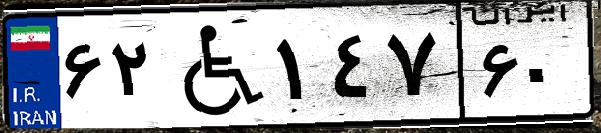0: (525, 38, 570, 115)
1: (270, 28, 330, 110)
2: (110, 28, 158, 98)
4: (330, 28, 385, 110)
6: (57, 26, 110, 100), (475, 38, 525, 113)
7: (385, 28, 445, 110)
ژ (معلولین و جانبازان): (158, 12, 270, 120)
